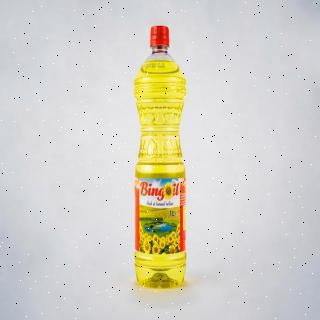Plastic-bottle: (133, 21, 189, 293)
